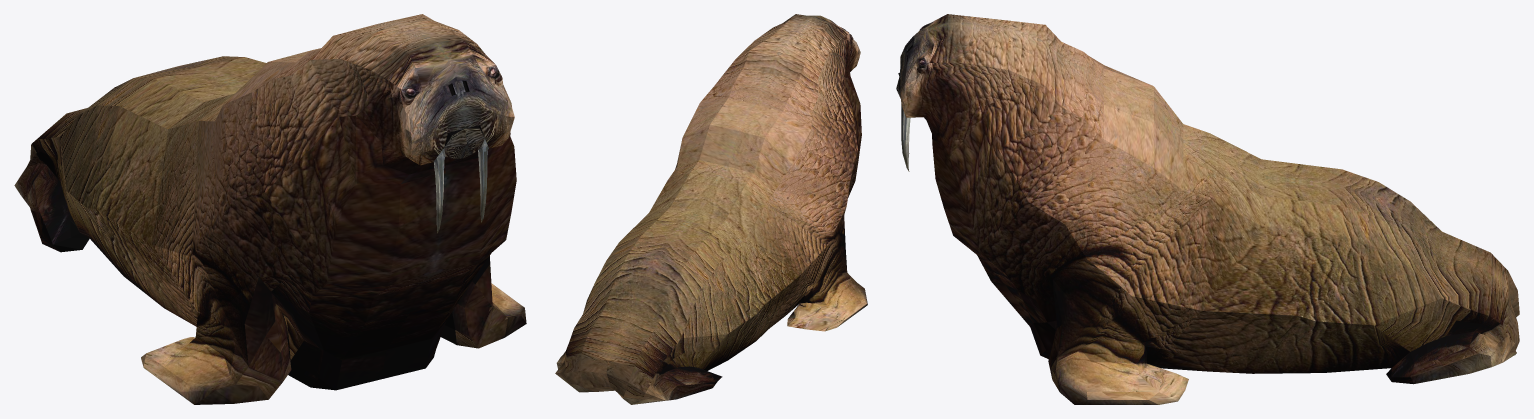
Rendered from Walrus.fbx.
3 views of the same model, side by side, from view 1: azimuth 30°, elevation 25°; view 2: azimuth 150°, elevation 25°; view 3: azimuth 270°, elevation 25° (orthographic). The views are drawn at different scales.
Visible parts, largest first — view 1: Walrus; view 2: Walrus; view 3: Walrus.
Boxes of the visible parts, x1,y1,x2,y2 form: Walrus: (14, 14, 526, 404); Walrus: (555, 14, 867, 404); Walrus: (896, 14, 1519, 404).
Size of the model in its own units: 187 by 195 by 350.
Materials: 1 (1 with a texture image).
